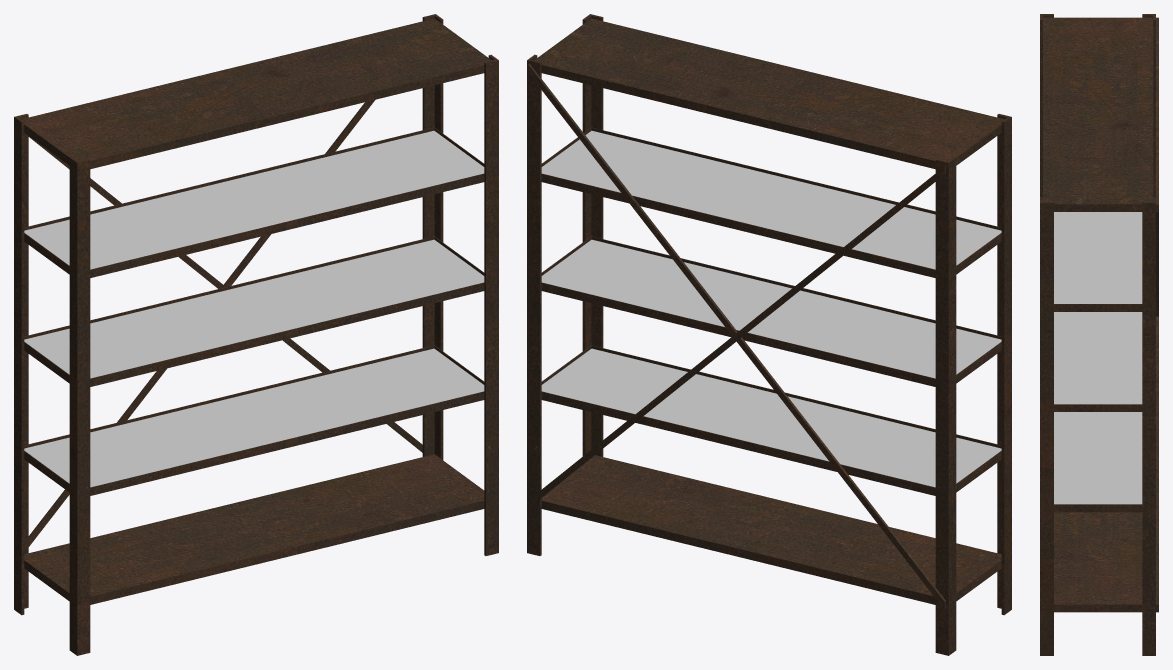
The model's file is shelf_mx_4.fbx.
3 renders of one model, left to right at view 1: azimuth 30°, elevation 25°; view 2: azimuth 150°, elevation 25°; view 3: azimuth 270°, elevation 25°, orthographic. The views are drawn at different scales.
Parts seen in each view (by area): view 1: shelf_mx_4; view 2: shelf_mx_4; view 3: shelf_mx_4.
Boxes of the visible parts, x1,y1,x2,y2 form: shelf_mx_4: (14,14,498,655); shelf_mx_4: (527,14,1011,655); shelf_mx_4: (1040,14,1158,655).
Bounding box in the file's own units: 1.62 × 1.81 × 0.43.
